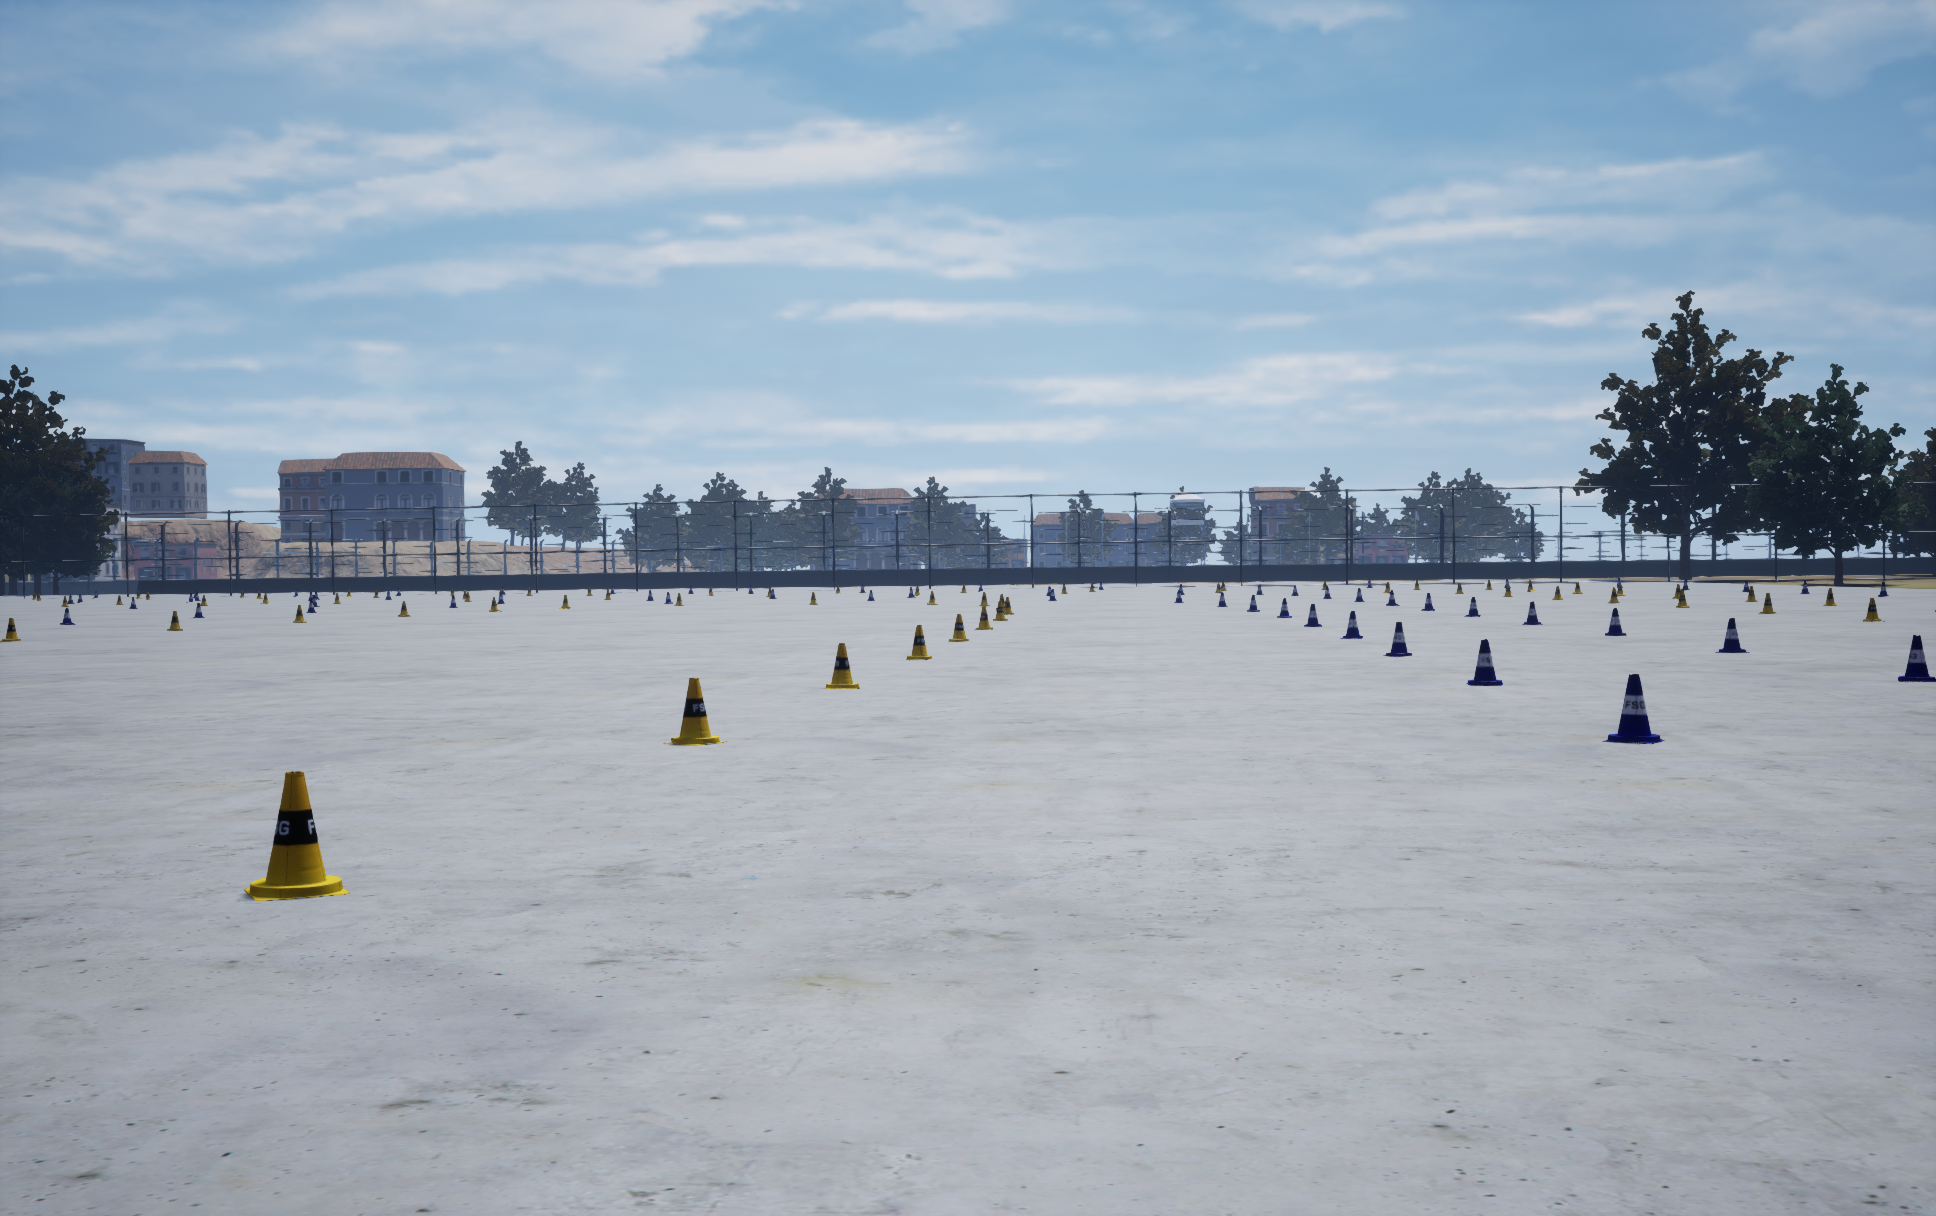blue: (244, 771, 349, 899), (663, 678, 727, 744), (825, 643, 859, 688), (906, 625, 932, 658), (948, 614, 971, 642), (1863, 598, 1884, 621), (0, 618, 20, 642), (974, 607, 992, 629), (1758, 593, 1776, 614), (167, 611, 182, 630), (993, 601, 1007, 621)
yellow: (1603, 674, 1664, 742), (1898, 635, 1935, 681), (1465, 639, 1502, 685), (1715, 618, 1750, 651), (1383, 622, 1411, 656), (1605, 608, 1626, 635), (1341, 611, 1362, 637), (1521, 601, 1542, 623), (1304, 604, 1321, 626), (1464, 597, 1479, 616), (1278, 598, 1292, 616)
